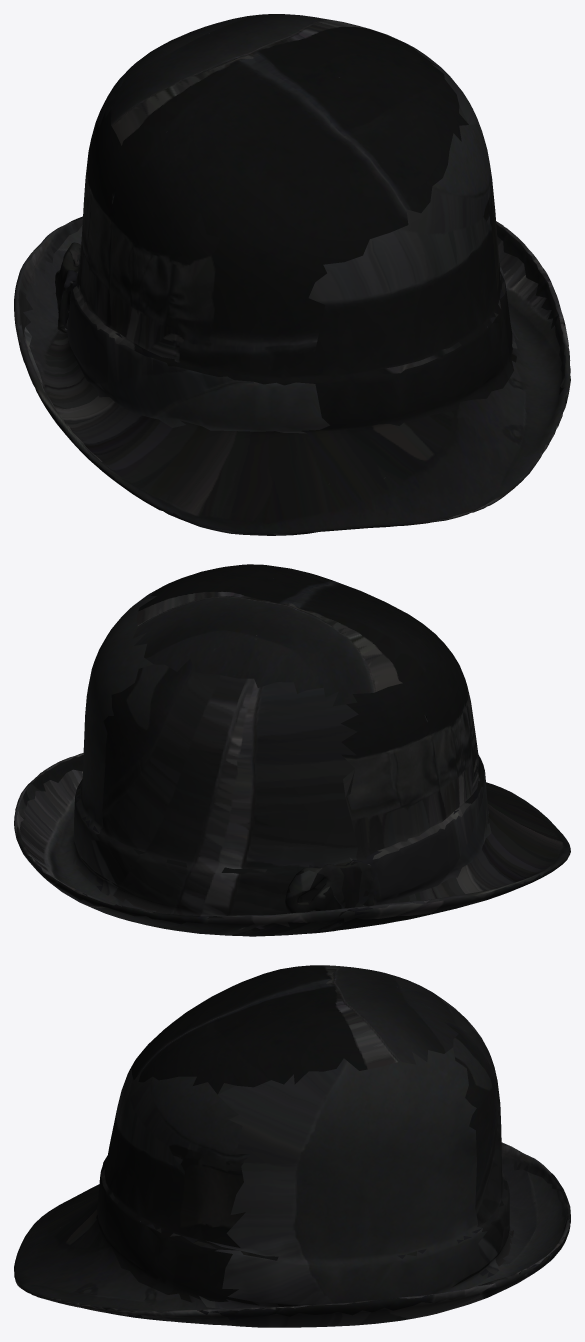
File: hat3.glb
3 renders of one model, top to bottom at view 1: azimuth 30°, elevation 25°; view 2: azimuth 150°, elevation 25°; view 3: azimuth 270°, elevation 25°, orthographic. The views are drawn at different scales.
Visible parts, largest first — view 1: Mesh1.016; view 2: Mesh1.016; view 3: Mesh1.016.
Part boxes in pixels (box(x1,y1,x2,y2)): Mesh1.016: box(14, 14, 570, 535); Mesh1.016: box(14, 564, 570, 936); Mesh1.016: box(14, 965, 570, 1327).
Size of the model in its own units: 1.73 by 1.12 by 1.99.
1 material, 1 textured.
